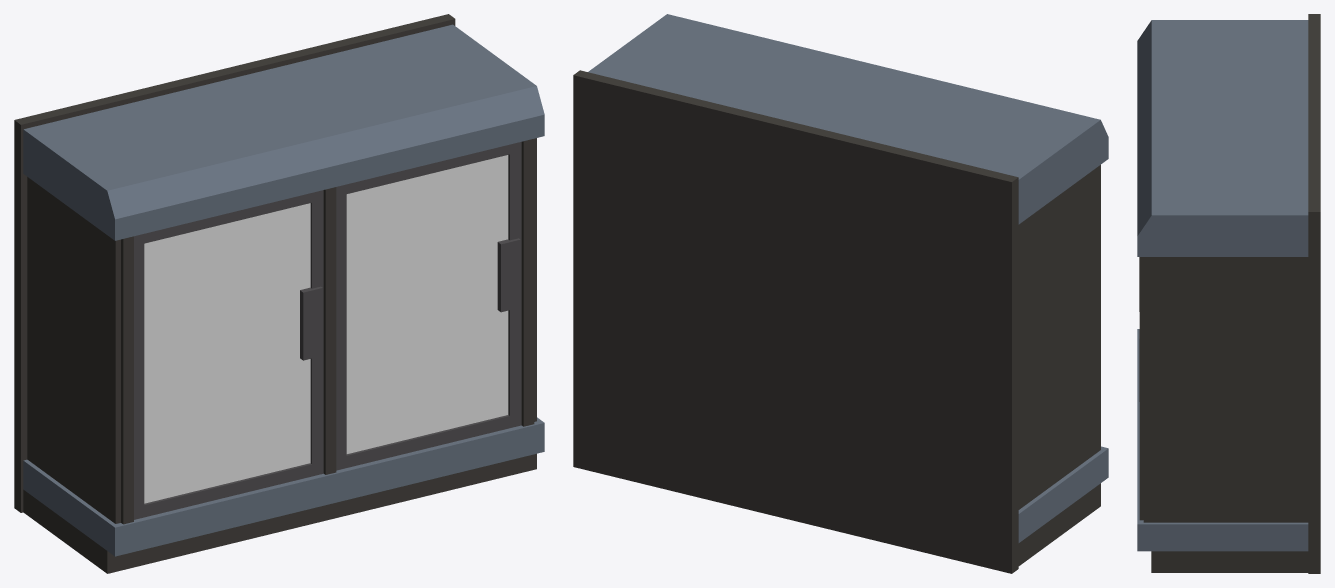
Rendered from ShopFridge_02.fbx.
3 views of the same model, side by side, from view 1: azimuth 30°, elevation 25°; view 2: azimuth 150°, elevation 25°; view 3: azimuth 270°, elevation 25° (orthographic). The views are drawn at different scales.
Parts seen in each view (by area): view 1: Case, Door_1, Door_2; view 2: Case; view 3: Case.
Boxes of the visible parts, x1=… form: Case: x1=14, y1=14, x2=544, y2=573; Door_1: x1=134, y1=190, x2=323, y2=519; Door_2: x1=336, y1=142, x2=521, y2=470; Case: x1=573, y1=14, x2=1108, y2=573; Case: x1=1137, y1=14, x2=1320, y2=573.
Size of the model in its own units: 269 by 229 by 105.
